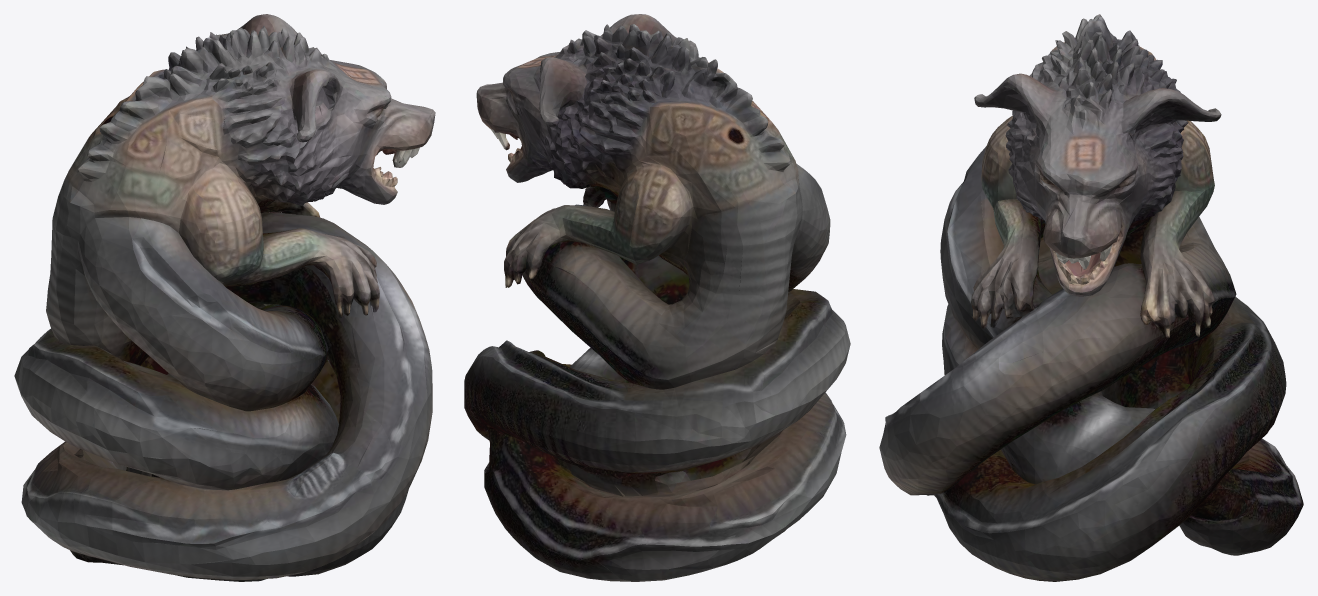
Rendered from scyllaHound.glb.
3 views of the same model, side by side, from view 1: azimuth 30°, elevation 25°; view 2: azimuth 150°, elevation 25°; view 3: azimuth 270°, elevation 25° (orthographic). The views are drawn at different scales.
Parts seen in each view (by area): view 1: world; view 2: world; view 3: world.
Boxes of the visible parts, box(x1,y1,x2,y2) form: world: box(14, 14, 435, 581); world: box(464, 14, 850, 581); world: box(879, 14, 1303, 581).
Size of the model in its own units: 0.7644 by 0.9994 by 0.7478.
1 material, 1 textured.
